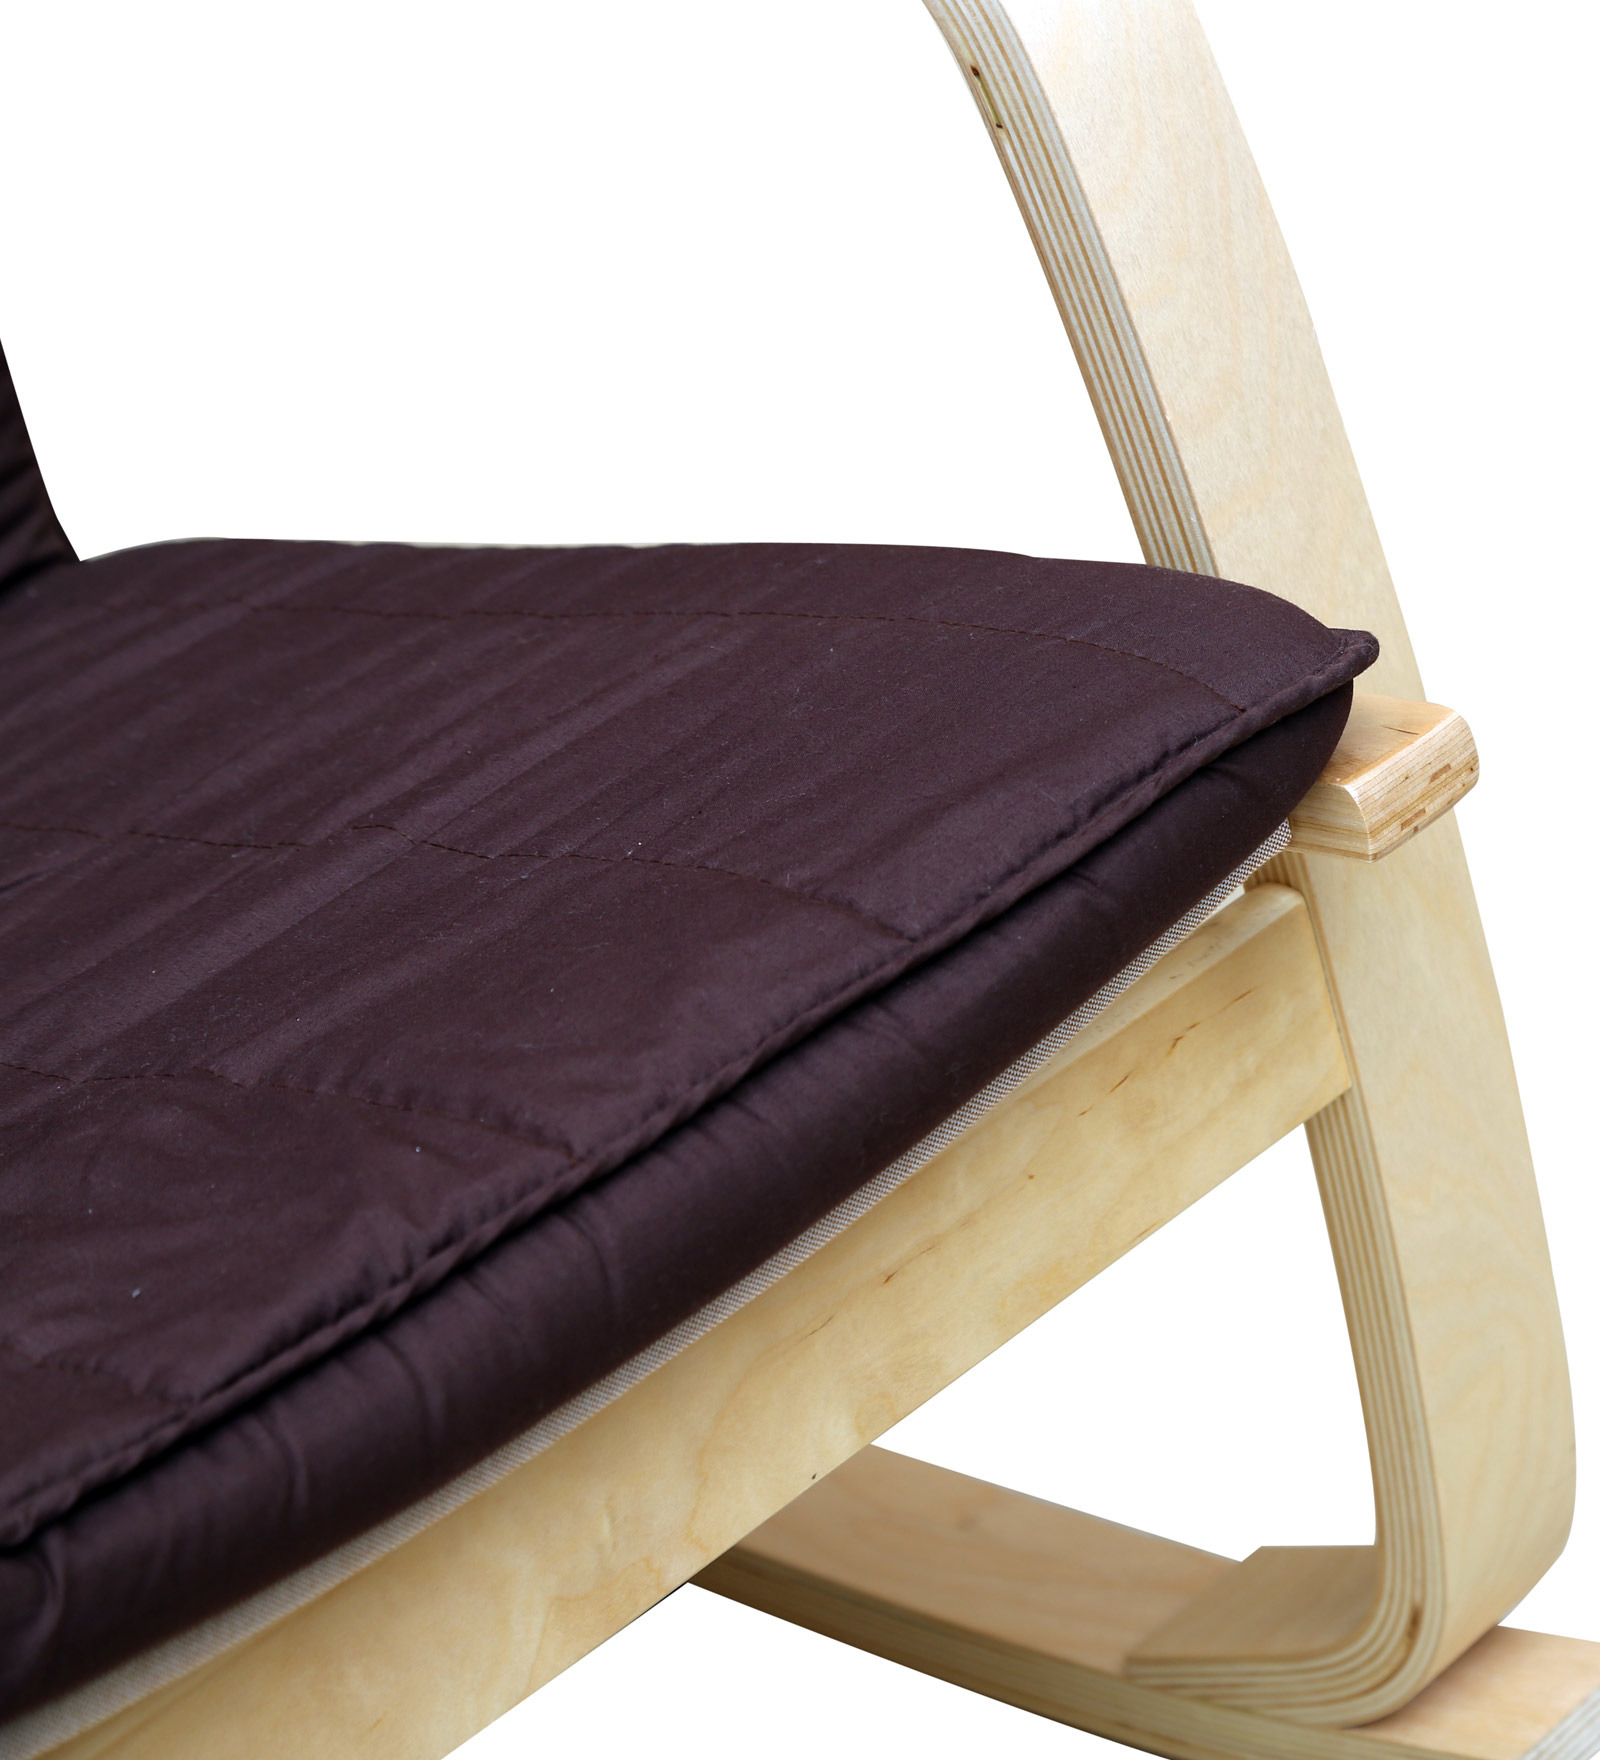Vita Rocking Chair with Brown Cushion by HomeTown: (14, 26, 1600, 1758)
